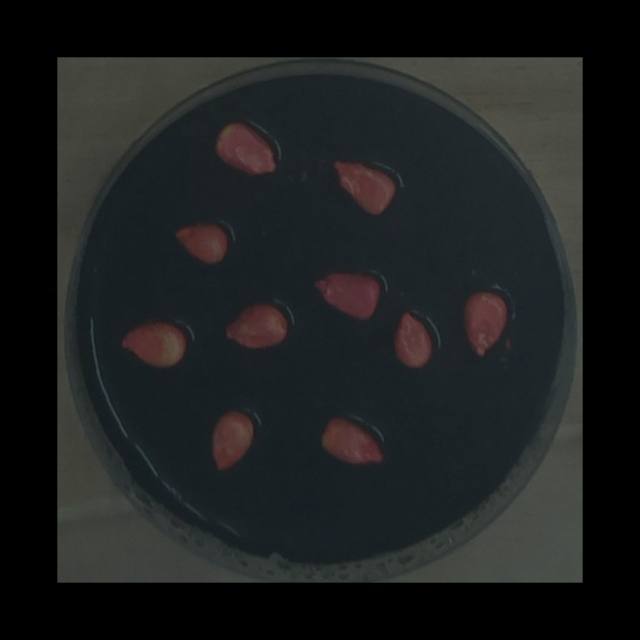Zea mays: (326, 153, 402, 220), (207, 115, 283, 180), (308, 265, 387, 327), (113, 315, 192, 374), (457, 285, 514, 363), (314, 412, 388, 472), (219, 296, 293, 355), (205, 405, 258, 476), (387, 304, 439, 374), (168, 216, 233, 270)
